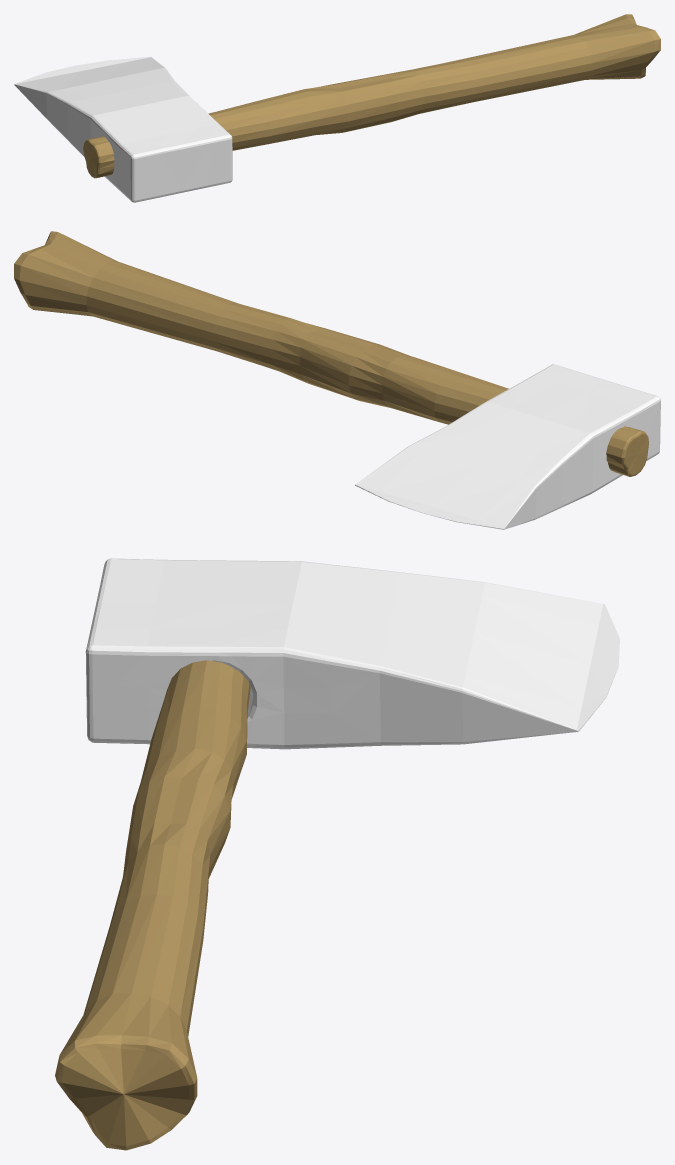
Rendered from Hatchet by Poly by Google - cu35V2x-P-6.glb.
The picture shows the model from 3 angles, top to bottom: view 1: azimuth 30°, elevation 25°; view 2: azimuth 150°, elevation 25°; view 3: azimuth 270°, elevation 25°; orthographic projection. The views are drawn at different scales.
Visible parts, largest first — view 1: Handle, Blade; view 2: Handle, Blade; view 3: Blade, Handle.
Boxes of the visible parts, bbox=[...] form: Handle: bbox=[83, 14, 660, 178]; Blade: bbox=[14, 56, 232, 202]; Handle: bbox=[14, 231, 648, 476]; Blade: bbox=[355, 364, 660, 529]; Blade: bbox=[85, 558, 619, 749]; Handle: bbox=[55, 660, 250, 1150].
Size of the model in its own units: 205 by 20.48 by 94.37.
